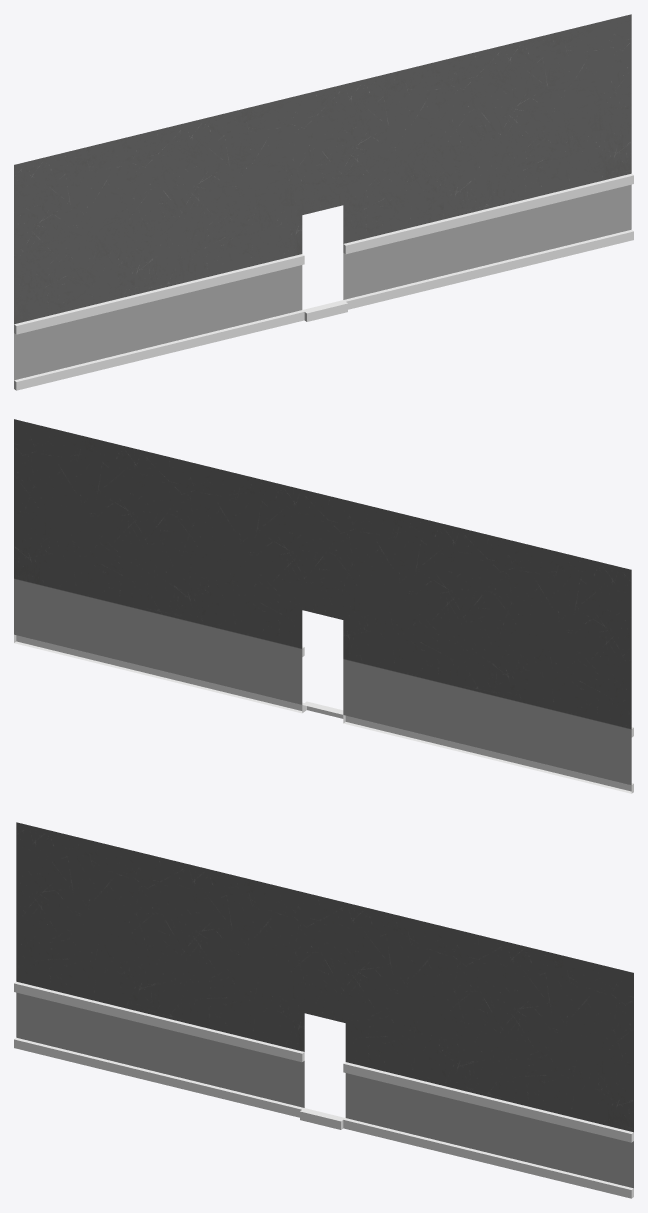
The model's file is SM06_Building_WallPanel_Exterior_03_DoorBottom_01.fbx.
3 views of the same model, one above another, from view 1: azimuth 30°, elevation 25°; view 2: azimuth 150°, elevation 25°; view 3: azimuth 330°, elevation 25° (orthographic).
Parts seen in each view (by area): view 1: SM06_Building_WallPanel_Exterior_03_DoorBottom_01; view 2: SM06_Building_WallPanel_Exterior_03_DoorBottom_01; view 3: SM06_Building_WallPanel_Exterior_03_DoorBottom_01.
Part boxes in pixels (x1,y1,x2,y2): SM06_Building_WallPanel_Exterior_03_DoorBottom_01: (14, 14, 633, 390); SM06_Building_WallPanel_Exterior_03_DoorBottom_01: (14, 419, 633, 793); SM06_Building_WallPanel_Exterior_03_DoorBottom_01: (14, 822, 633, 1198).
Bounding box in the file's own units: 15 × 5.2 × 0.1969.
